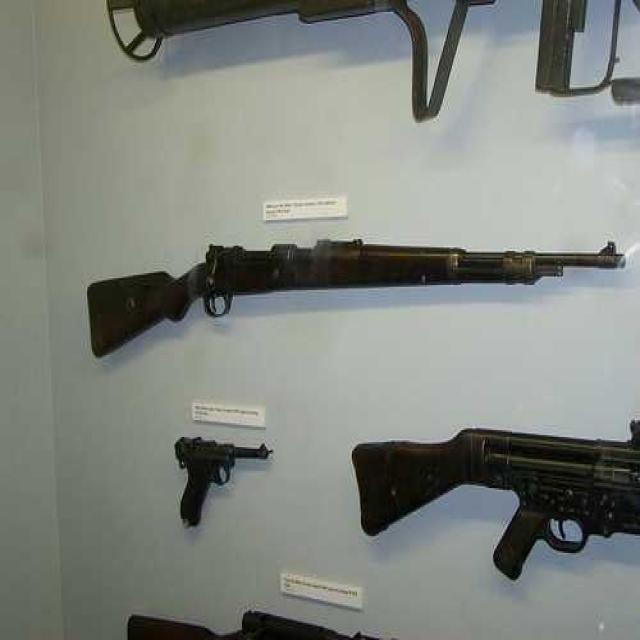heavyweapon: (83, 161, 635, 387), (341, 412, 640, 595)
